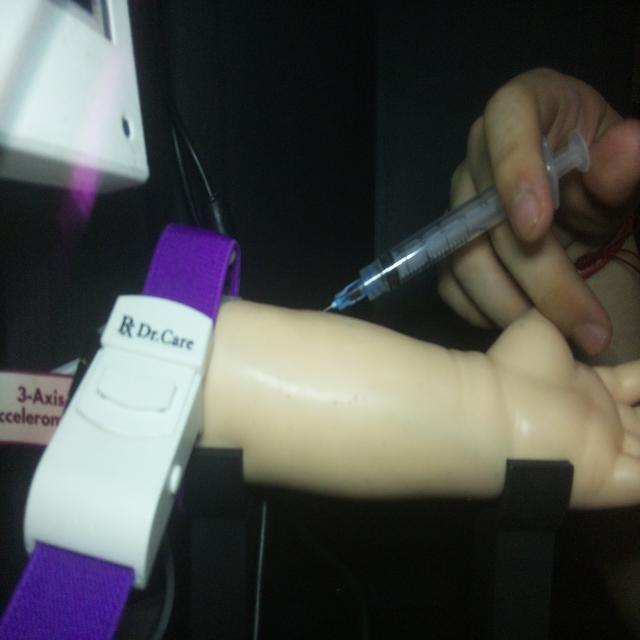24 degrees: (321, 126, 592, 316)
